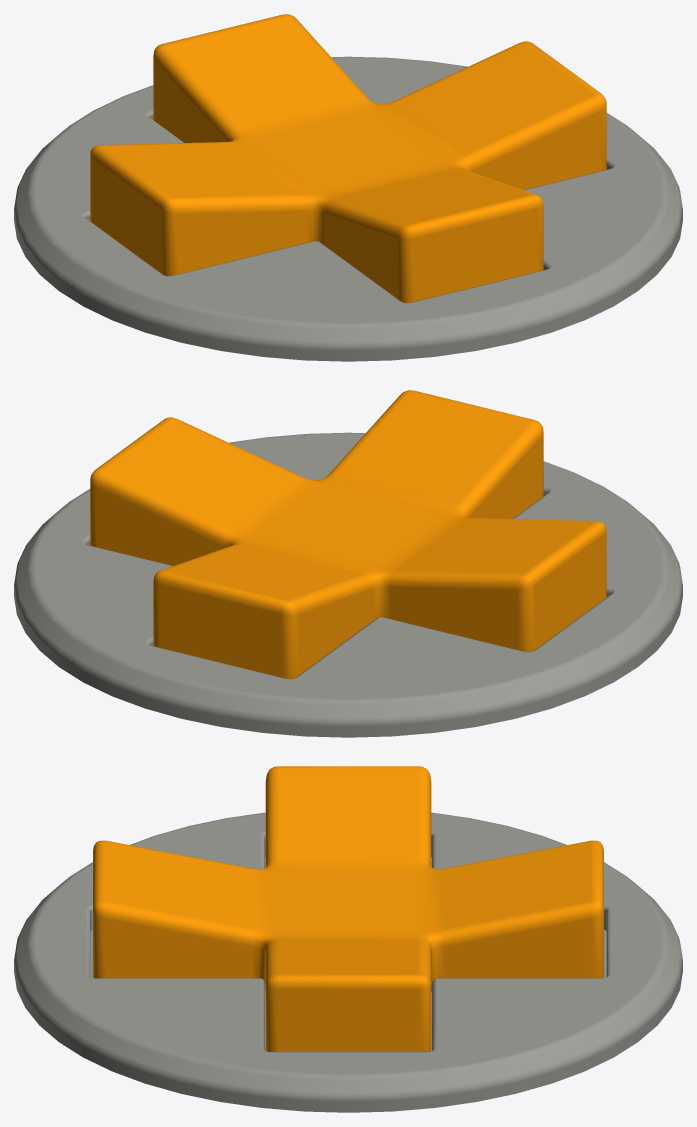
File: DPad #3.fbx
3 renders of one model, top to bottom at view 1: azimuth 30°, elevation 25°; view 2: azimuth 150°, elevation 25°; view 3: azimuth 270°, elevation 25°, orthographic.
Visible parts, largest first — view 1: kitbash_81; view 2: kitbash_81; view 3: kitbash_81.
Boxes of the visible parts, x1,y1,x2,y2 form: kitbash_81: [14, 14, 682, 361]; kitbash_81: [14, 390, 682, 737]; kitbash_81: [14, 766, 682, 1112].
Bounding box in the file's own units: 7.26 × 1.2 × 7.26.
